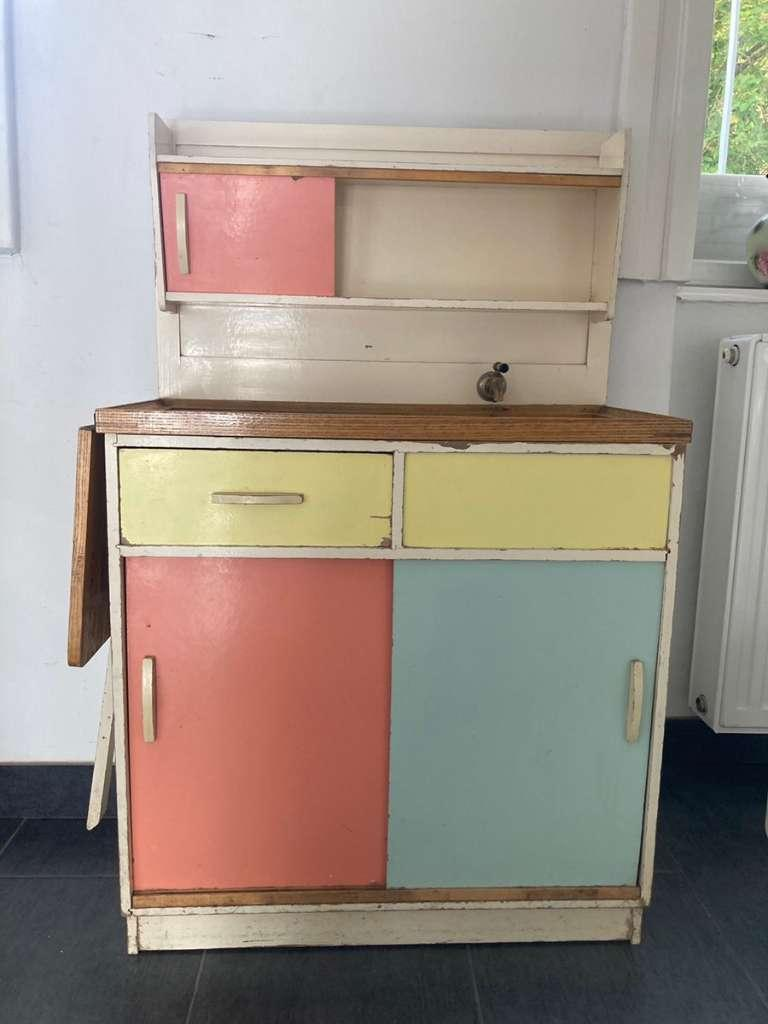cabinet_door: (122, 557, 388, 892), (392, 570, 651, 898), (402, 455, 668, 555), (111, 453, 390, 544), (160, 170, 342, 300)
handle: (165, 187, 202, 280), (210, 485, 308, 516), (138, 650, 162, 744), (624, 652, 647, 749)
